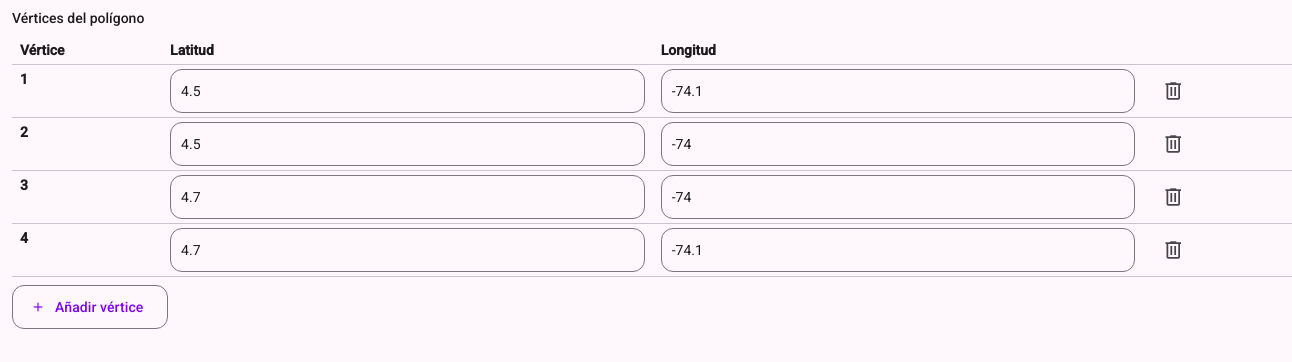
Test: VertexTableComponent › al corregir el valor vuelve a propagarse
Replace the text in the number field named "Latitud del vértice 1" with "91" at (407, 91), box [170,69,645,113]
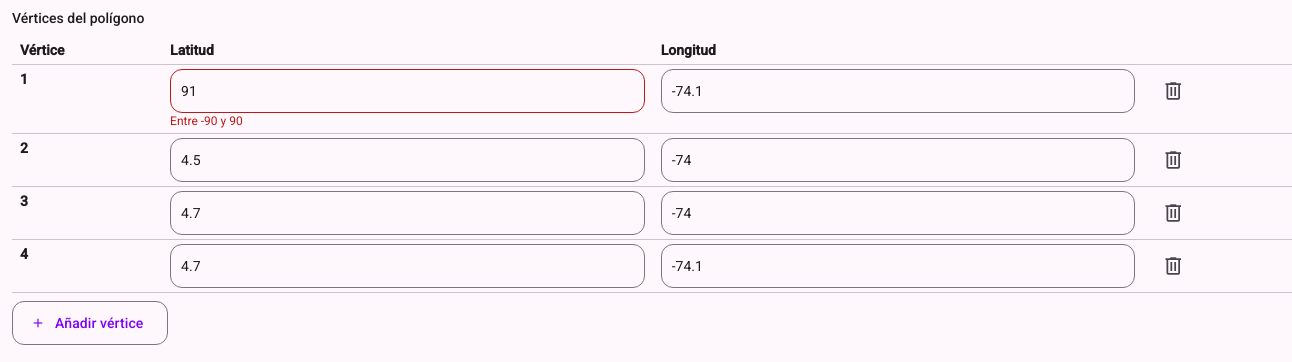
Replace the text in the number field named "Latitud del vértice 1" with "4.4" at (407, 91), box [170,69,645,113]
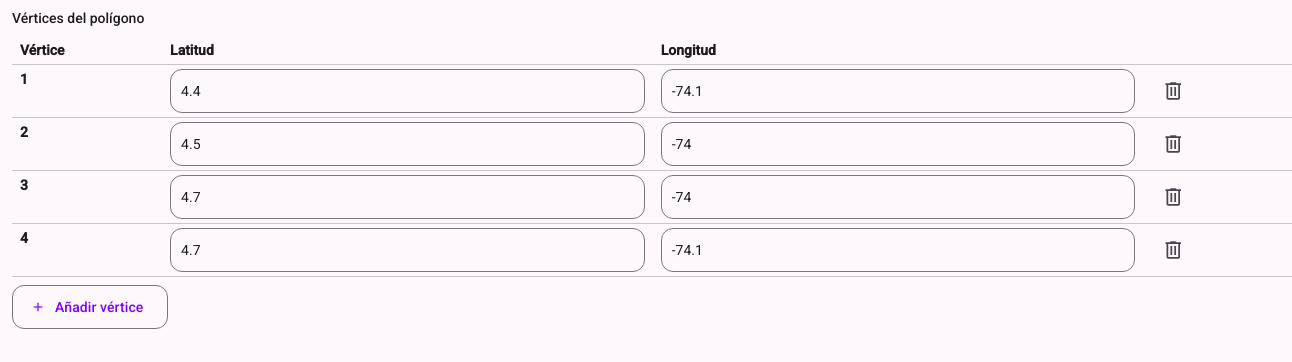
expect the message with class "error" is gone: met
